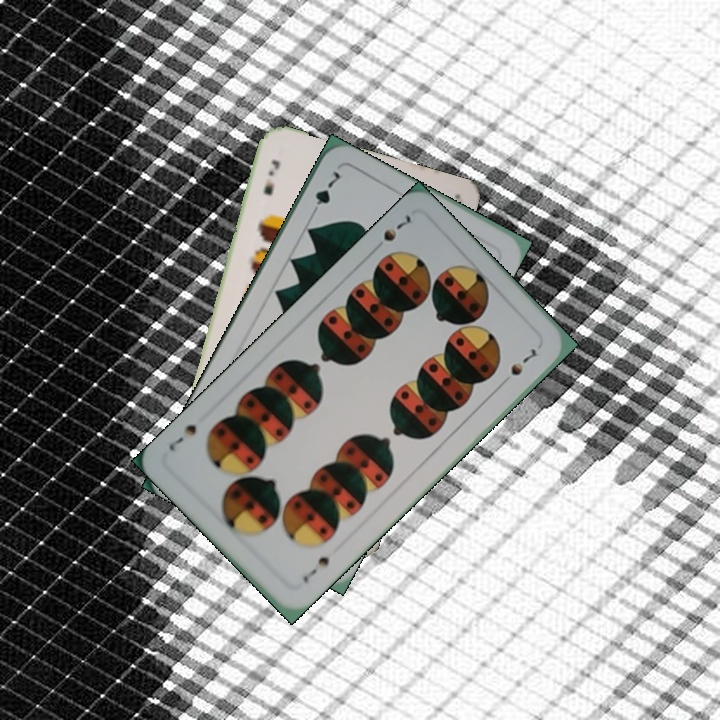E7: (259, 155, 283, 198)
G7: (306, 167, 343, 220)
S7: (368, 211, 416, 255), (298, 552, 332, 586)
